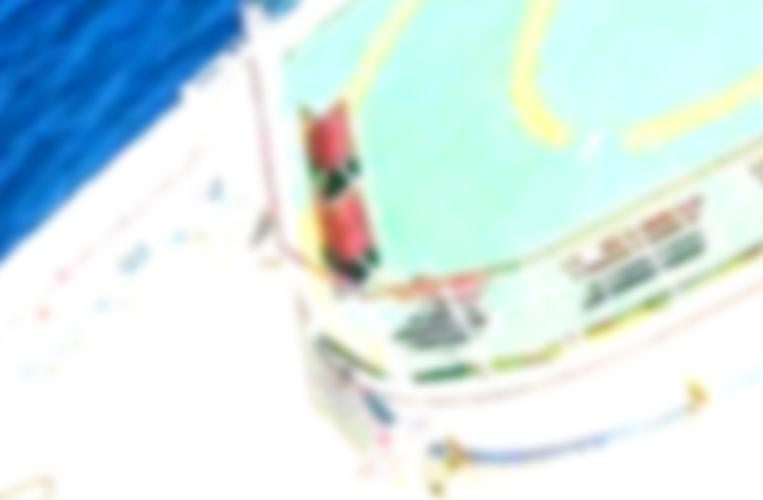Apron: (494, 3, 763, 162)
